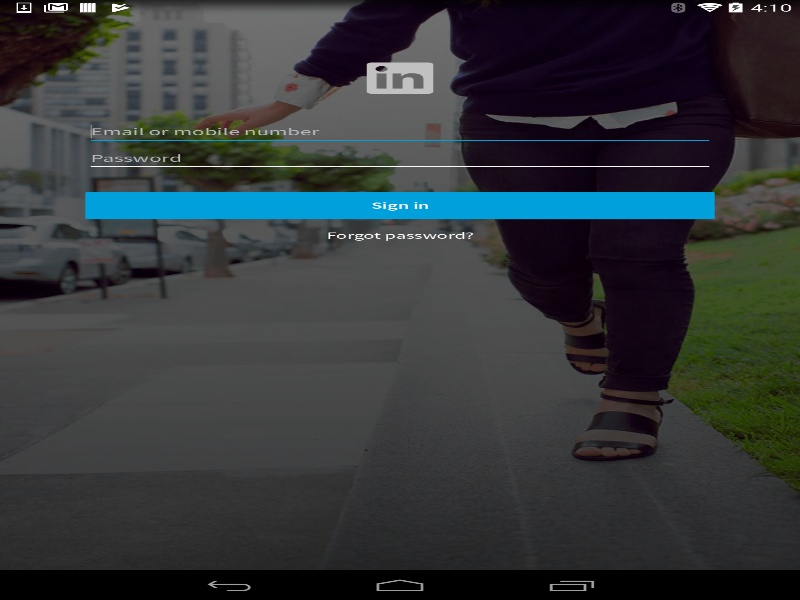Button: (85, 191, 714, 219), (21, 508, 384, 536), (416, 508, 778, 536), (341, 541, 458, 566)
Input: (85, 118, 714, 145), (85, 145, 714, 171)
